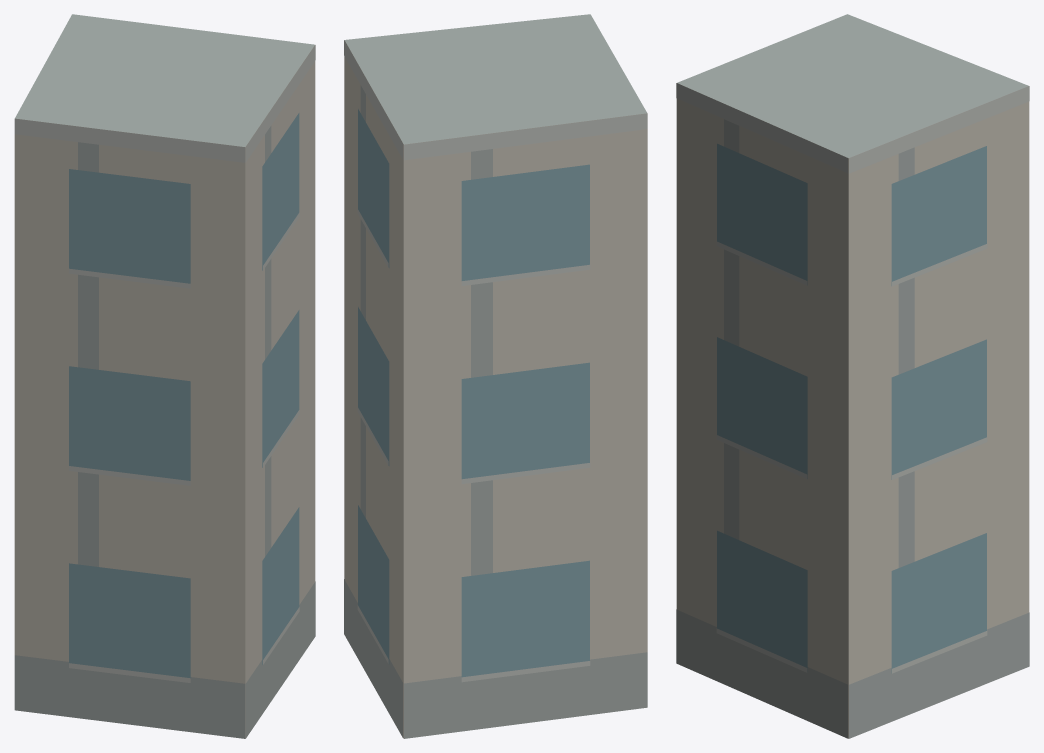
The model's file is survey-upis-32648330.glb.
3 views of the same model, side by side, from view 1: azimuth 30°, elevation 25°; view 2: azimuth 150°, elevation 25°; view 3: azimuth 270°, elevation 25° (orthographic). The views are drawn at different scales.
Visible parts, largest first — view 1: survey-upis-32648330.tmp; view 2: survey-upis-32648330.tmp; view 3: survey-upis-32648330.tmp.
Boxes of the visible parts, x1,y1,x2,y2 form: survey-upis-32648330.tmp: [14, 14, 315, 738]; survey-upis-32648330.tmp: [344, 14, 647, 738]; survey-upis-32648330.tmp: [676, 14, 1029, 738].
Bounding box in the file's own units: 4.88 × 9.15 × 5.04.
